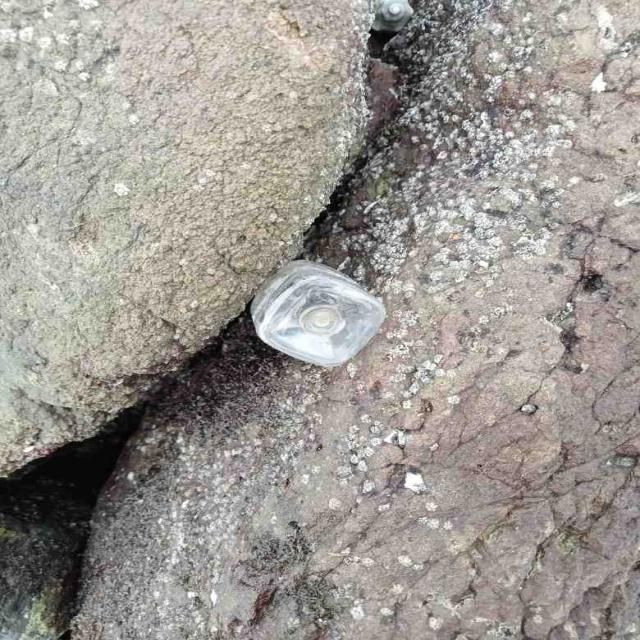plastic: (250, 260, 385, 367)
